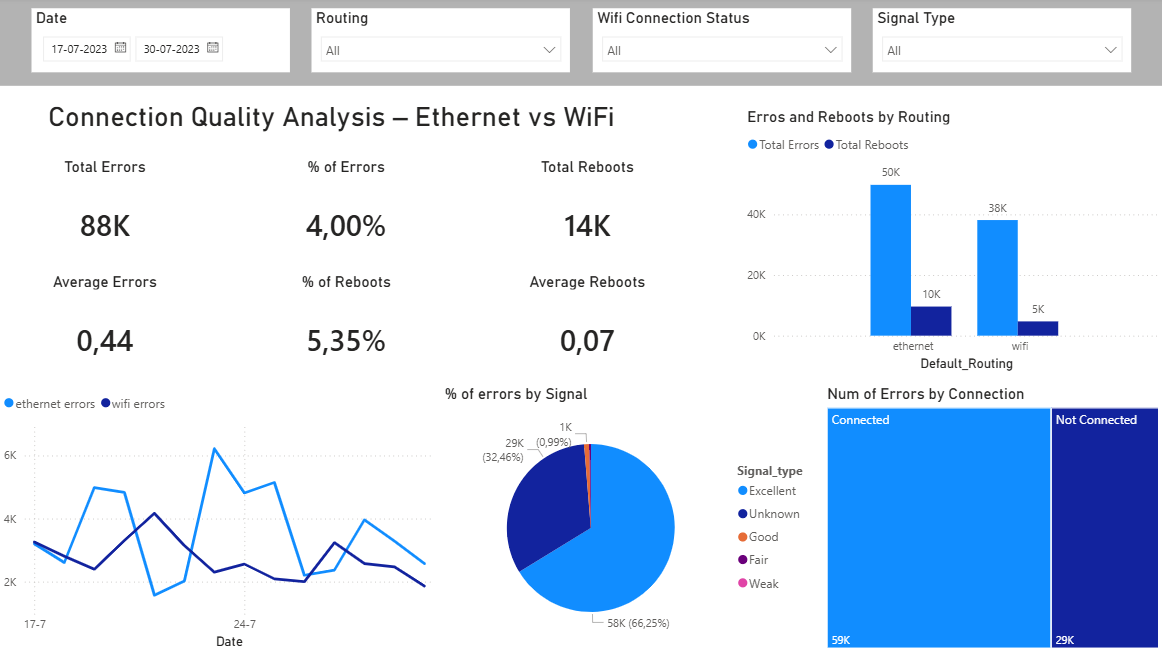

Layout of this report page (visuals, bound fields, positions):
{"tool":"powerbi","page":{"name":"Navigation","canvas":[1280,720],"ordinal":0},"visuals":[{"type":"cardVisual","title":"Total Errors","fields":{"Data":["Sum(Sheet1.Num_Erros)"]},"box":[1.4,175.6,230.1,123.9],"z":0,"group":"g1"},{"type":"lineChart","fields":{"Category":["Sheet1.Date"],"Y":["0. Metrics.ethernet_errors","0. Metrics.wifi_errors"]},"box":[0,425.4,485.8,295],"z":0,"group":"g2"},{"type":"textbox","box":[0,0,1280.3,116.6],"z":1000},{"type":"cardVisual","title":"Total Reboots","fields":{"Data":["Sum(Sheet1.Num_Reboots)"]},"box":[531.9,175.6,230.1,123.9],"z":1000,"group":"g1"},{"type":"pieChart","title":"% of errors by Signal","fields":{"Category":["Sheet1.Signal_type"],"Y":["Sum(Sheet1.Num_Erros)"]},"box":[484.4,425.4,421.3,295],"z":1000,"group":"g2"},{"type":"slicer","title":"Date","fields":{"Values":["Sheet1.Date"]},"box":[12.3,12.3,270.3,70],"z":2000,"group":"g3"},{"type":"textbox","title":"KPI","box":[12.3,120.8,93.3,46.7],"z":2000},{"type":"cardVisual","title":"Average Errors","fields":{"Data":["Avg(Sheet1.Num_Erros)"]},"box":[1.4,301.7,230.1,123.9],"z":2000,"group":"g1"},{"type":"treemap","title":"Num of Errors by Connection","fields":{"Group":["Sheet1.Wifi_Connection_Status"],"Values":["Sum(Sheet1.Num_Erros)"]},"box":[905.7,425.4,374.6,295],"z":2000,"group":"g2"},{"type":"slicer","title":"Routing","fields":{"Values":["Sheet1.Default_Routing"]},"box":[305.5,12.3,270.3,70],"z":3000,"group":"g3"},{"type":"clusteredColumnChart","title":"Erros and Reboots by Routing","fields":{"Category":["Sheet1.Default_Routing"],"Y":["Sum(Sheet1.Num_Erros)","Sum(Sheet1.Num_Reboots)"]},"box":[817.8,120.8,462.4,295],"z":3000},{"type":"cardVisual","title":"Average Reboots","fields":{"Data":["Avg(Sheet1.Num_Reboots)"]},"box":[531.9,301.7,230.1,123.9],"z":3000,"group":"g1"},{"type":"slicer","title":"Signal Type","fields":{"Values":["Sheet1.Signal_type"]},"box":[891.9,12.3,270.3,70],"z":4000,"group":"g3"},{"type":"group","id":"g1","title":"Group 1","box":[1.4,175.6,761.6,249.7],"z":4000},{"type":"cardVisual","title":"% of Errors","fields":{"Data":["0. Metrics.% Registos com Erros"]},"box":[266.6,175.6,230.1,123.9],"z":4000,"group":"g1"},{"type":"slicer","title":"Wifi Connection Status","fields":{"Values":["Sheet1.Wifi_Connection_Status"]},"box":[598.7,12.3,270.3,70],"z":5000,"group":"g3"},{"type":"cardVisual","title":"% of Reboots","fields":{"Data":["0. Metrics.% registed_reboots"]},"box":[266.4,301.7,230.5,123.3],"z":5000,"group":"g1"},{"type":"group","id":"g2","title":"Group 2","box":[0,425.4,1280.3,295],"z":5000},{"type":"group","id":"g3","title":"Group 3","box":[12.3,12.3,1149.9,70],"z":6000}]}

Visuals, with their boxes in screenshot pixels (x1, y1, x2, y2), scaled from the page's 1280x720 canvas onto the 1162x648 screenshot:
"Total Errors" cardVisual: [1,158,210,270]
lineChart - Sheet1.Date x 0. Metrics.ethernet_errors: [0,383,441,647]
textbox: [0,0,1161,105]
"Total Reboots" cardVisual: [483,158,692,270]
"% of errors by Signal" pieChart: [440,383,822,647]
"Date" slicer: [11,11,257,74]
"KPI" textbox: [11,109,96,151]
"Average Errors" cardVisual: [1,272,210,383]
"Num of Errors by Connection" treemap: [822,383,1161,647]
"Routing" slicer: [277,11,523,74]
"Erros and Reboots by Routing" clusteredColumnChart: [742,109,1161,374]
"Average Reboots" cardVisual: [483,272,692,383]
"Signal Type" slicer: [810,11,1055,74]
"Group 1" group: [1,158,693,383]
"% of Errors" cardVisual: [242,158,451,270]
"Wifi Connection Status" slicer: [544,11,789,74]
"% of Reboots" cardVisual: [242,272,451,382]
"Group 2" group: [0,383,1161,647]
"Group 3" group: [11,11,1055,74]
